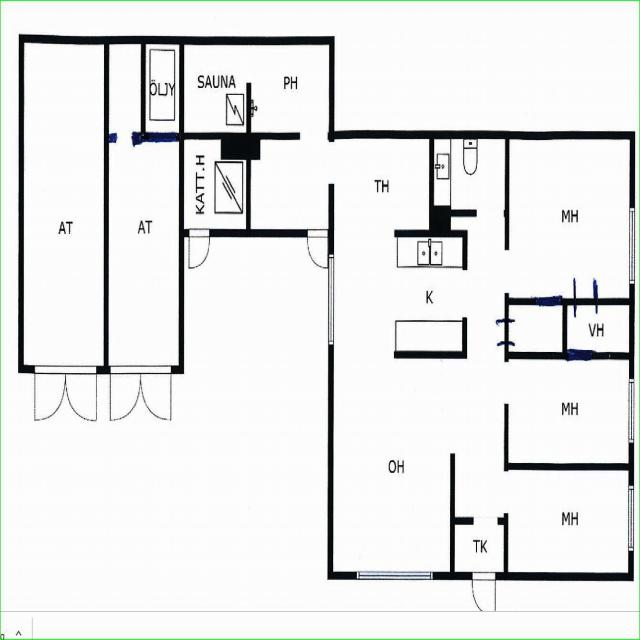door: (65, 366, 96, 420), (140, 366, 171, 419), (35, 366, 65, 420), (110, 366, 140, 419), (472, 572, 495, 614), (307, 230, 328, 268), (189, 229, 209, 268)
